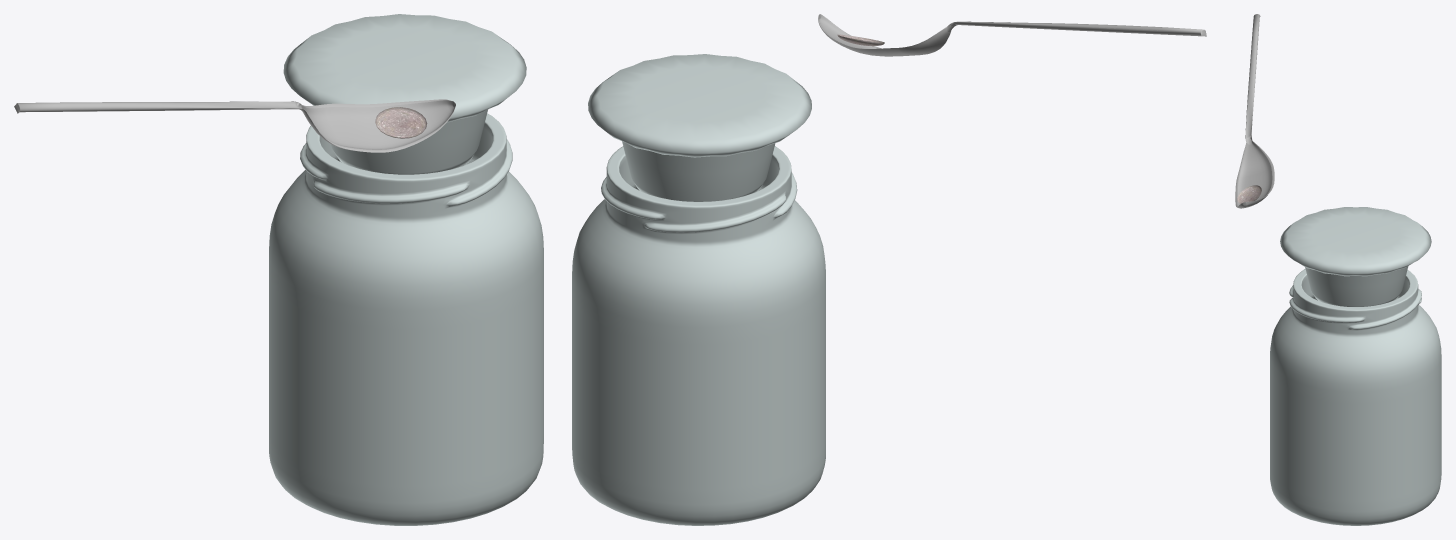
3 renders of one model, left to right at view 1: azimuth 30°, elevation 25°; view 2: azimuth 150°, elevation 25°; view 3: azimuth 270°, elevation 25°, orthographic. The views are drawn at different scales.
Parts seen in each view (by area): view 1: bottle:AM134_17_jar_02, polySurface2, Loft01, pSphere1; view 2: bottle:AM134_17_jar_02, polySurface2, Loft01; view 3: bottle:AM134_17_jar_02, polySurface2, Loft01, pSphere1.
Part boxes in pixels (x1,y1,x2,y2): bottle:AM134_17_jar_02: [269, 113, 543, 525]; polySurface2: [283, 14, 526, 174]; Loft01: [14, 99, 455, 152]; pSphere1: [375, 107, 427, 138]; bottle:AM134_17_jar_02: [572, 146, 825, 525]; polySurface2: [588, 54, 811, 201]; Loft01: [818, 14, 1206, 56]; bottle:AM134_17_jar_02: [1270, 269, 1441, 525]; polySurface2: [1280, 207, 1431, 306]; Loft01: [1235, 14, 1274, 208]; pSphere1: [1237, 185, 1261, 203].
Bounding box in the file's own units: 9.07 × 8.03 × 4.41.
Materials: 3 (1 with a texture image).
